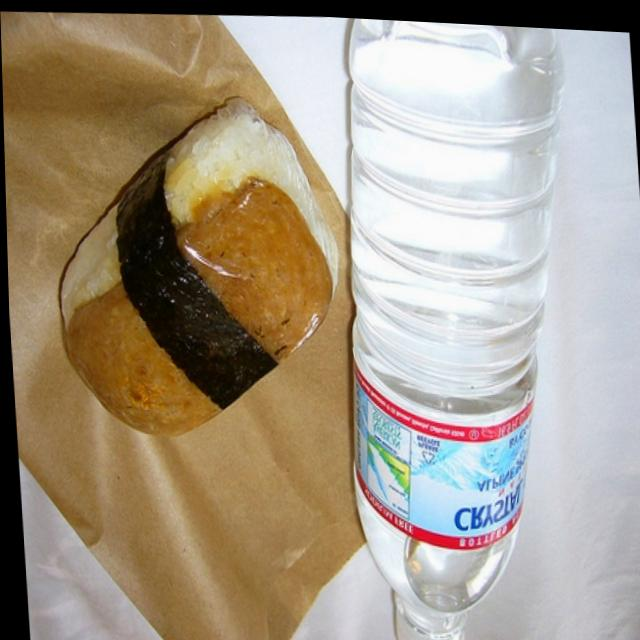寿司卷物: (24, 74, 352, 481)
